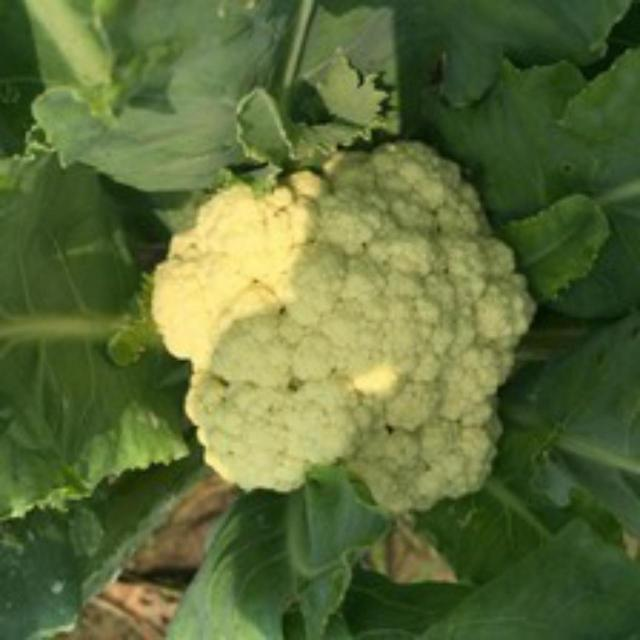cauliflower: (144, 123, 552, 520)
